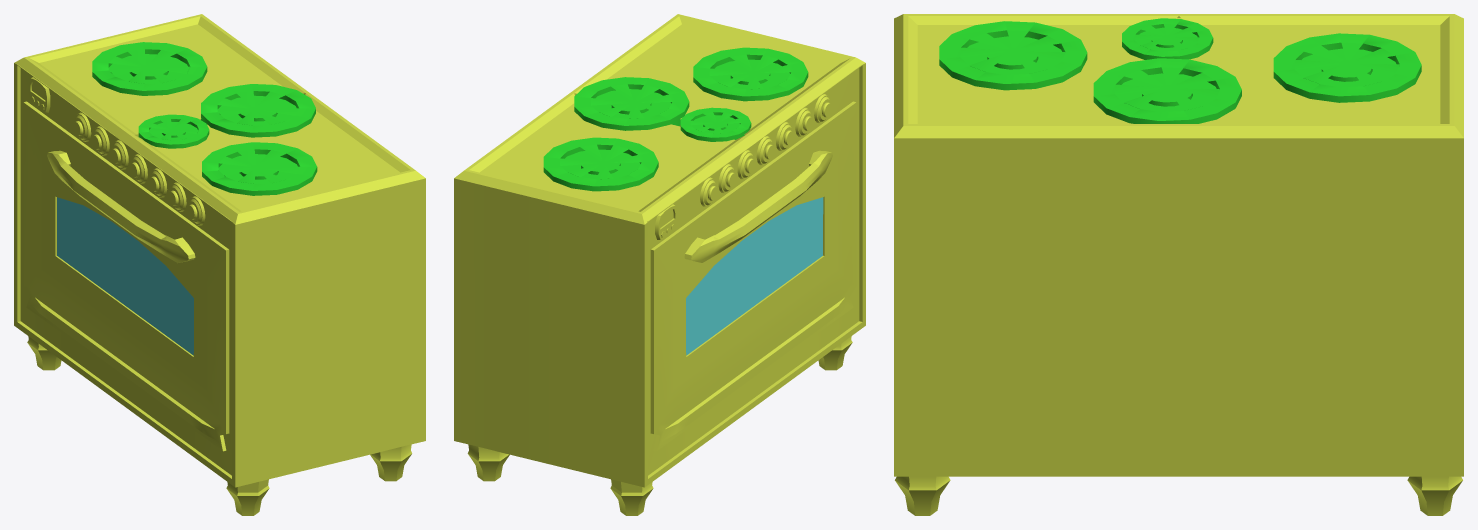
File: Oven 1.fbx
3 views of the same model, side by side, from view 1: azimuth 30°, elevation 25°; view 2: azimuth 150°, elevation 25°; view 3: azimuth 270°, elevation 25° (orthographic). The views are drawn at different scales.
Parts seen in each view (by area): view 1: Cube, Cube.002, Cube.001; view 2: Cube, Cube.002, Cube.001; view 3: Cube, Cube.002.
Boxes of the visible parts, x1=… form: Cube: x1=14, y1=14, x2=425, y2=515; Cube.002: x1=92, y1=42, x2=317, y2=195; Cube.001: x1=57, y1=197, x2=193, y2=355; Cube: x1=454, y1=14, x2=865, y2=515; Cube.002: x1=543, y1=47, x2=808, y2=191; Cube.001: x1=686, y1=197, x2=823, y2=355; Cube: x1=894, y1=14, x2=1463, y2=515; Cube.002: x1=939, y1=18, x2=1421, y2=123.
Bounding box in the file's own units: 77.11 × 108 × 140.
